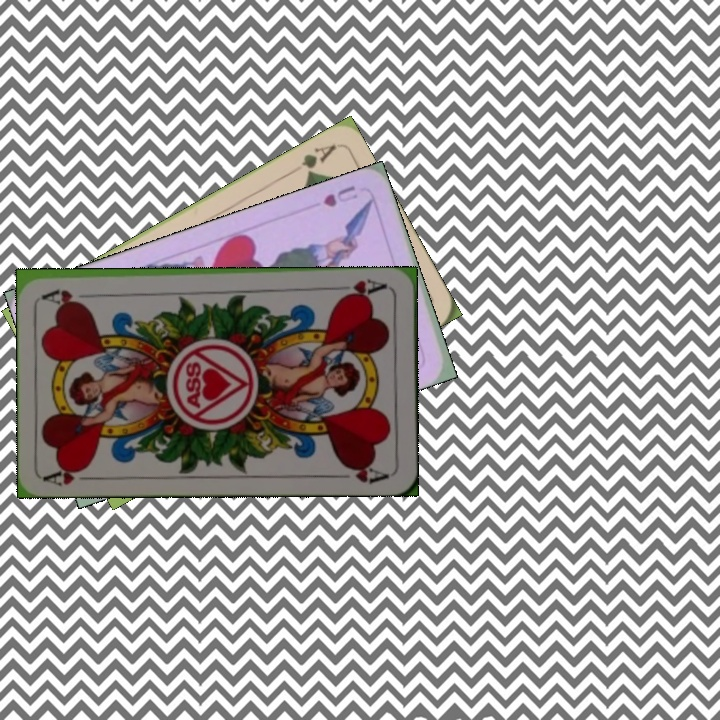GA: (297, 140, 339, 179)
HA: (42, 462, 101, 489), (336, 275, 390, 301)
HU: (319, 182, 360, 210)
